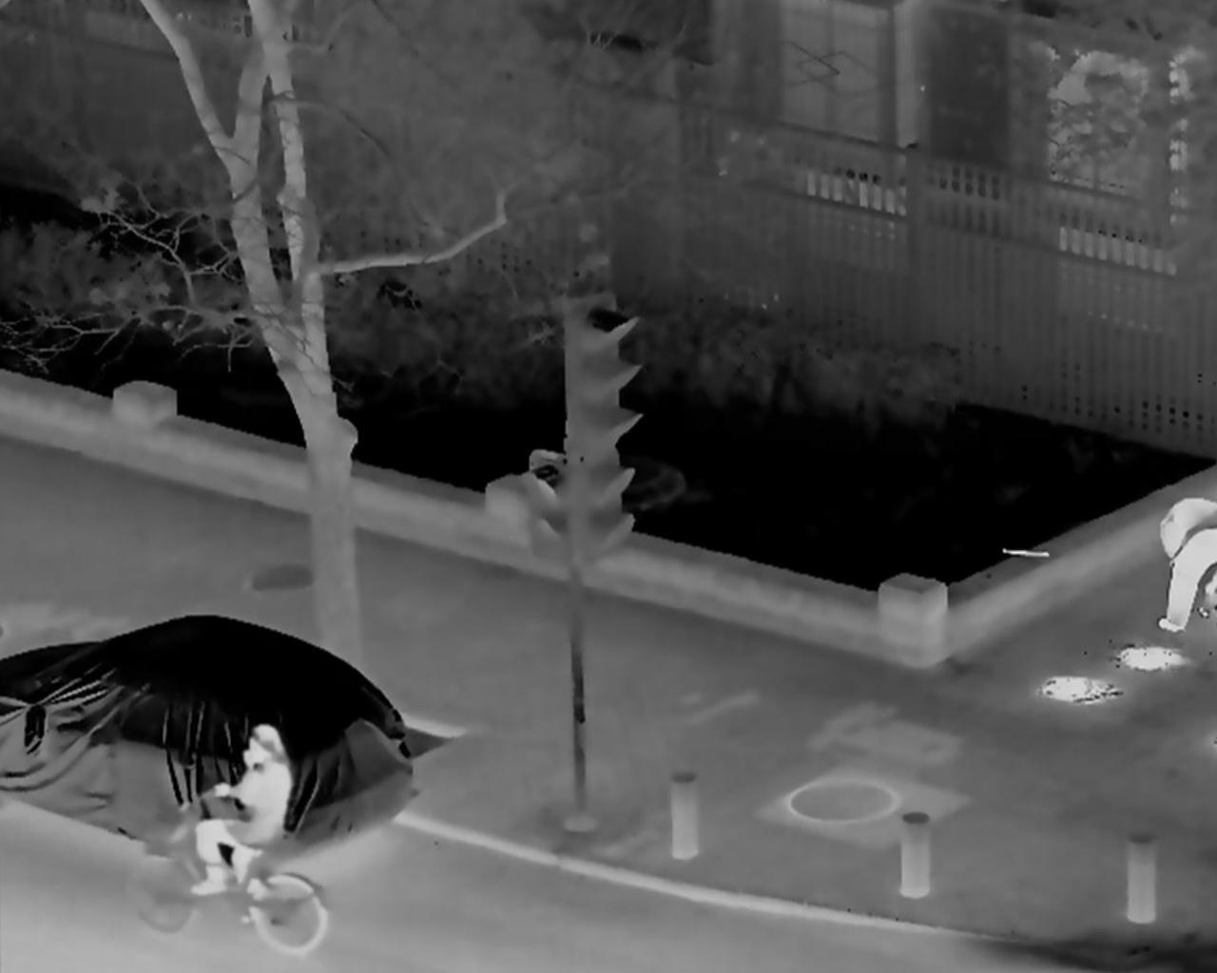person: (183, 729, 291, 900), (1151, 499, 1215, 638)
